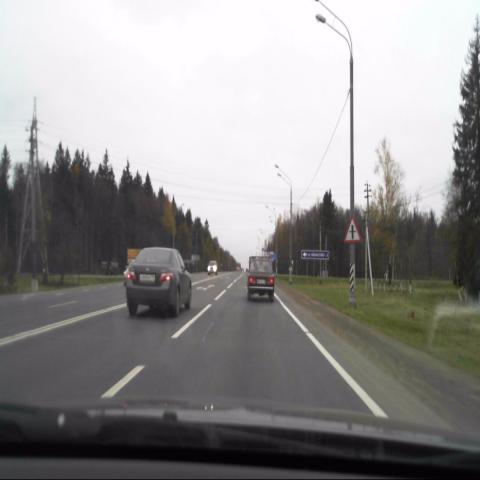2_3: (344, 217, 361, 243)
